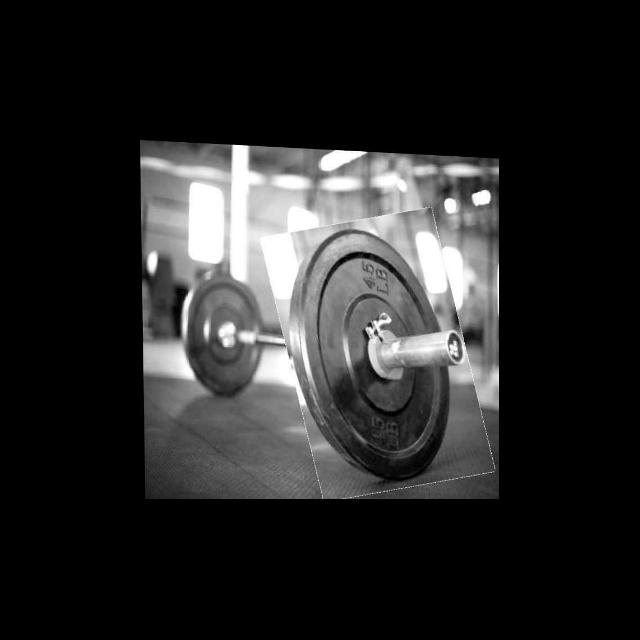barbell: (272, 206, 481, 499)
